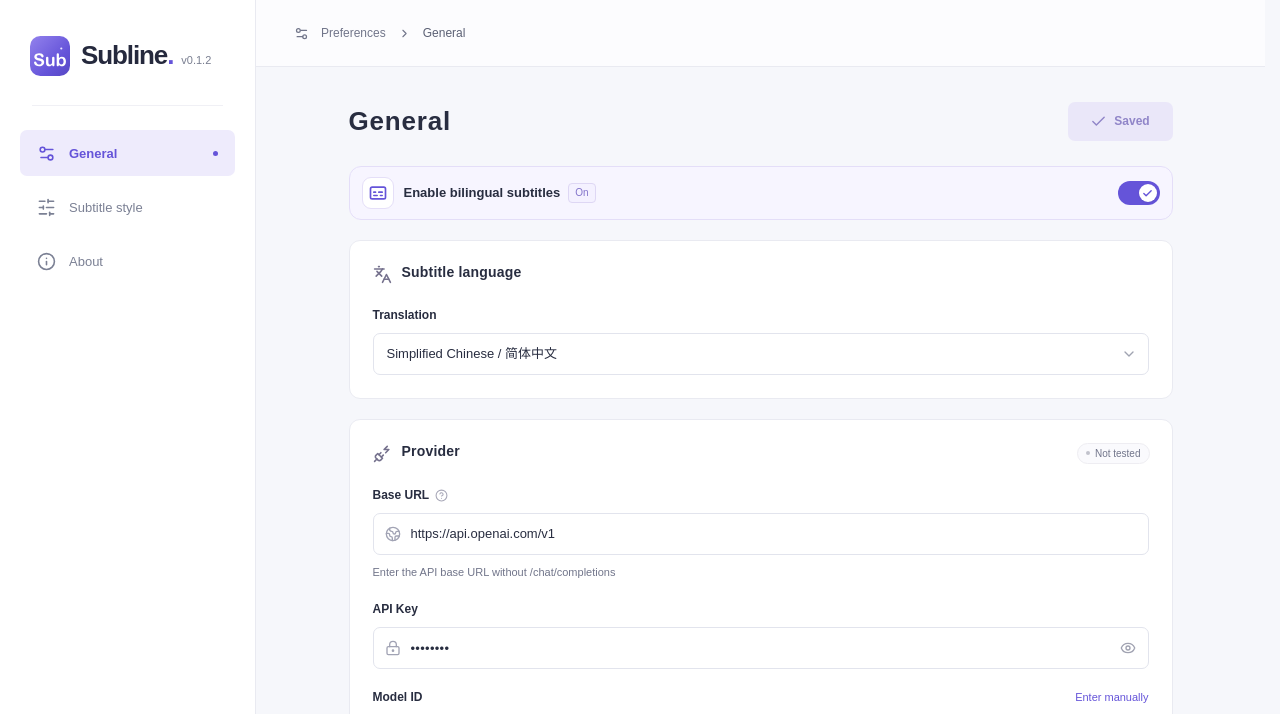
Test: keeps edits made while saving as an unsaved draft
The width and height of the screenshot is (1280, 714).
Click the switch named "Enable bilingual subtitles".
click(1138, 193)  # box x1=1118 y1=181 x2=1160 y2=205
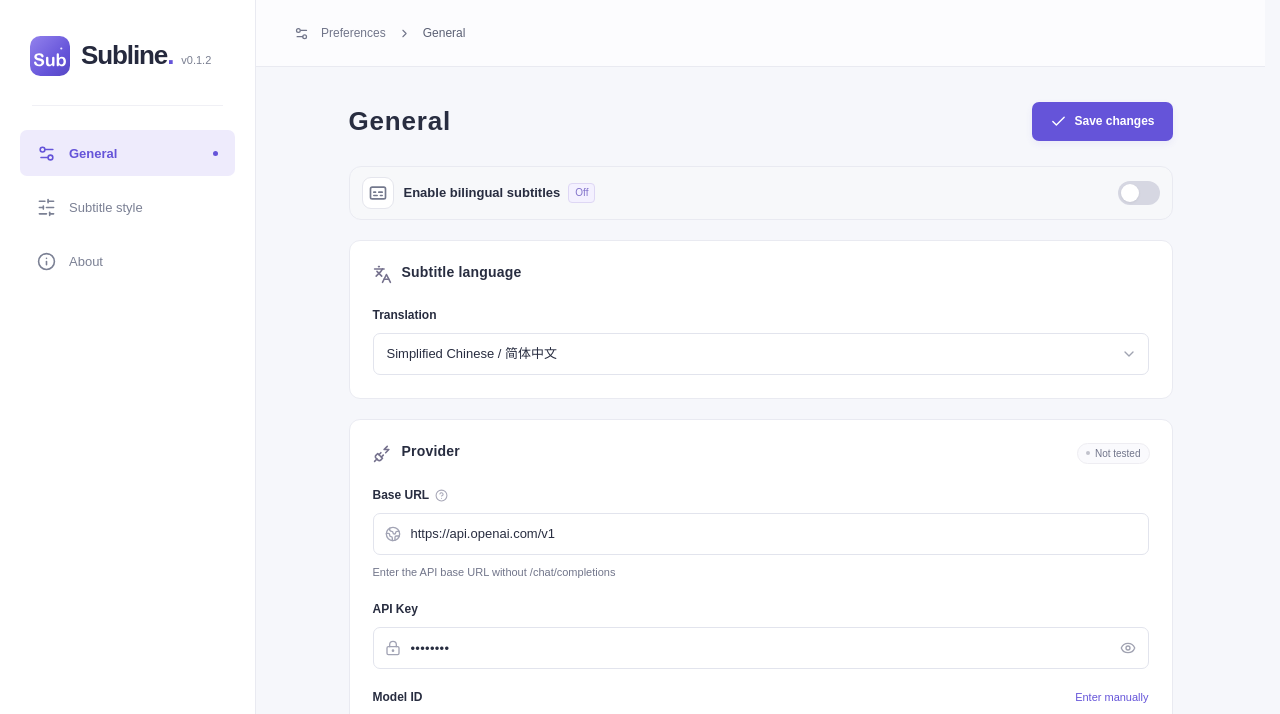
Click the button with class "save-button".
click(1102, 122)  # box x1=1032 y1=102 x2=1172 y2=141
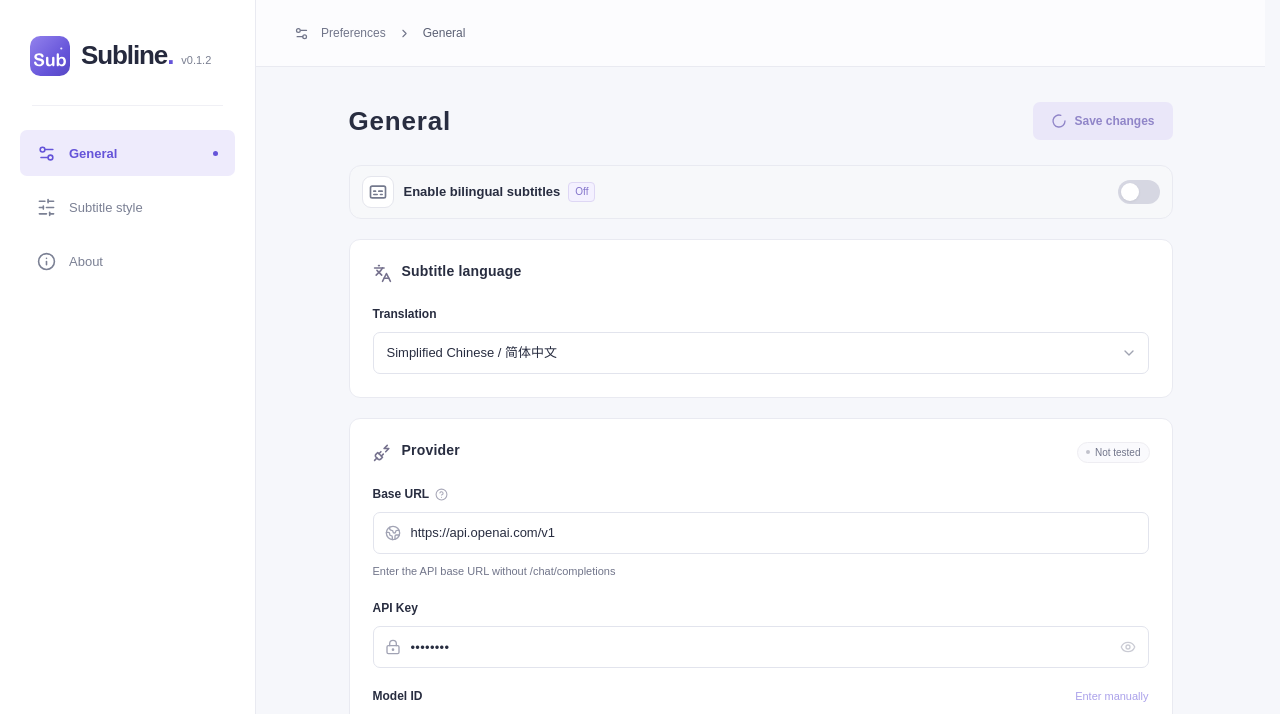
Click the switch named "Enable bilingual subtitles".
click(1138, 192)  # box x1=1118 y1=180 x2=1160 y2=204
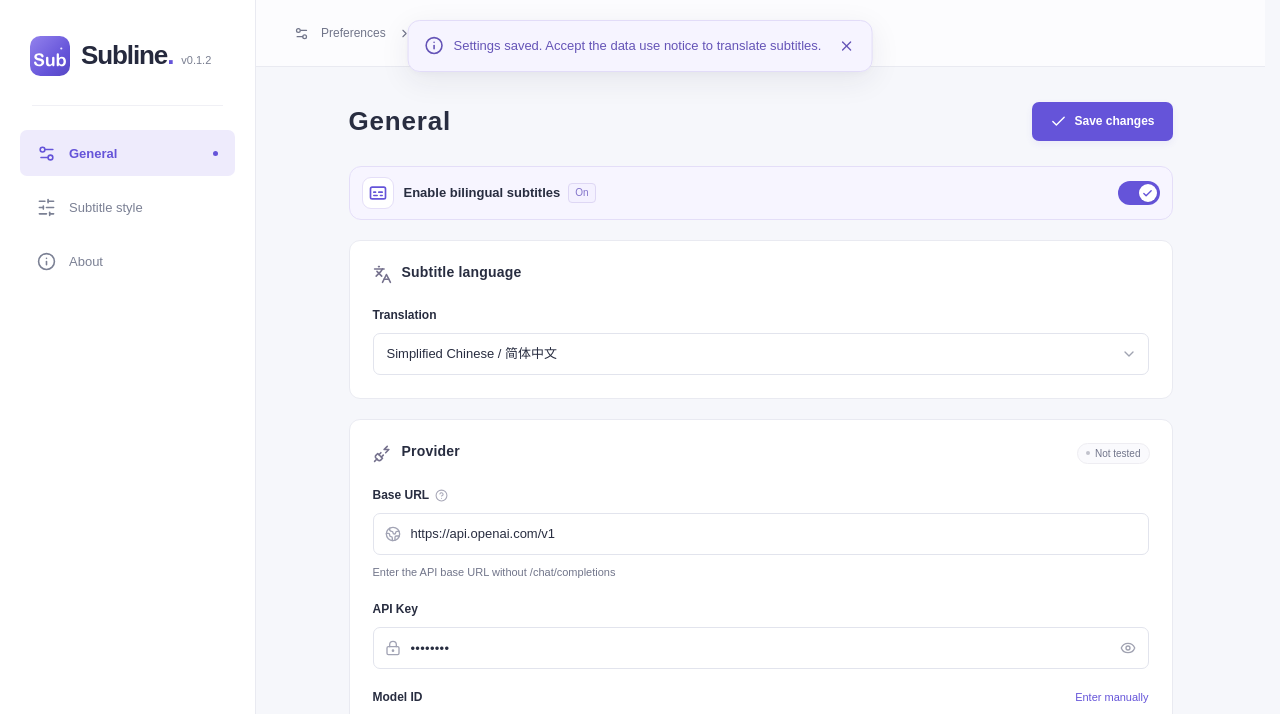
Expected: the button with class "save-button" reads "Save changes", x1=1032 y1=102 x2=1172 y2=141
Expected: the button with class "save-button" is enabled, x1=1032 y1=102 x2=1172 y2=141
